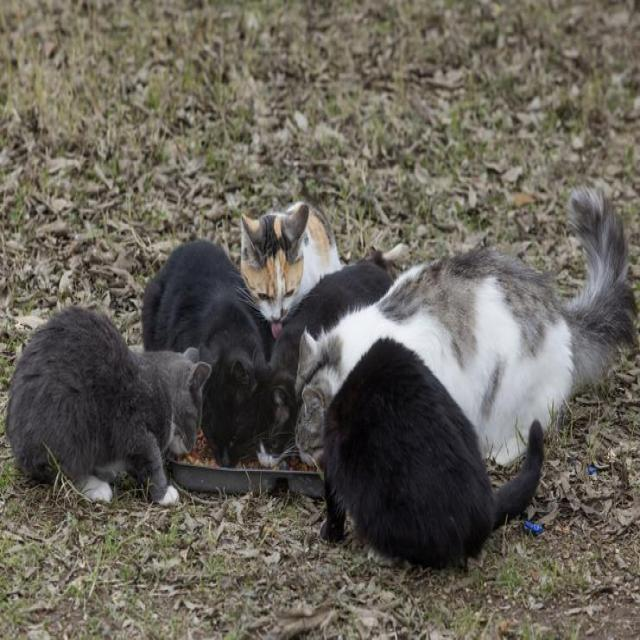cat: (296, 189, 635, 464), (322, 339, 542, 567), (6, 308, 211, 505), (142, 241, 275, 466), (270, 252, 392, 451), (241, 202, 341, 336)
